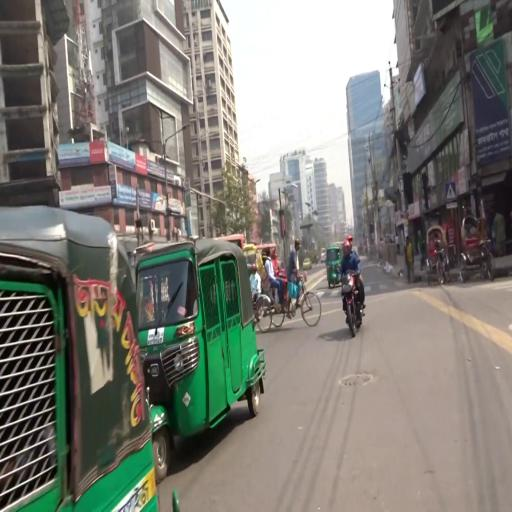bus: (244, 244, 279, 270)
motorbike: (340, 233, 365, 341)
rickshaw: (255, 240, 324, 330), (461, 215, 494, 284), (427, 224, 453, 289)
taxi: (302, 257, 313, 271)
three wheelers (CNG): (2, 194, 163, 509), (135, 235, 268, 488), (326, 247, 343, 289)
